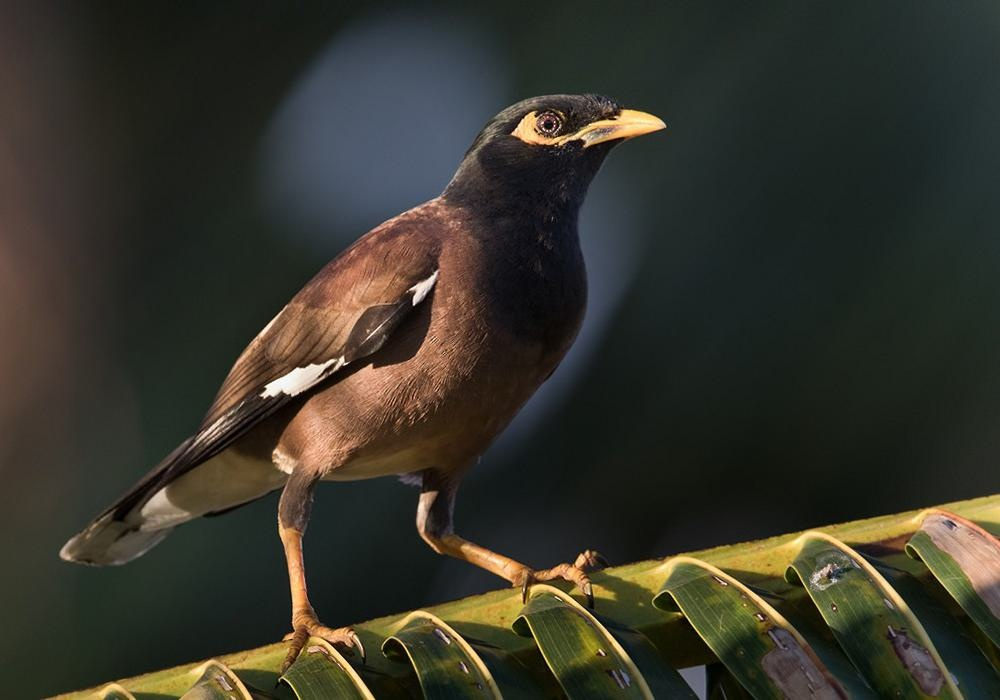myna: (56, 87, 691, 687)
